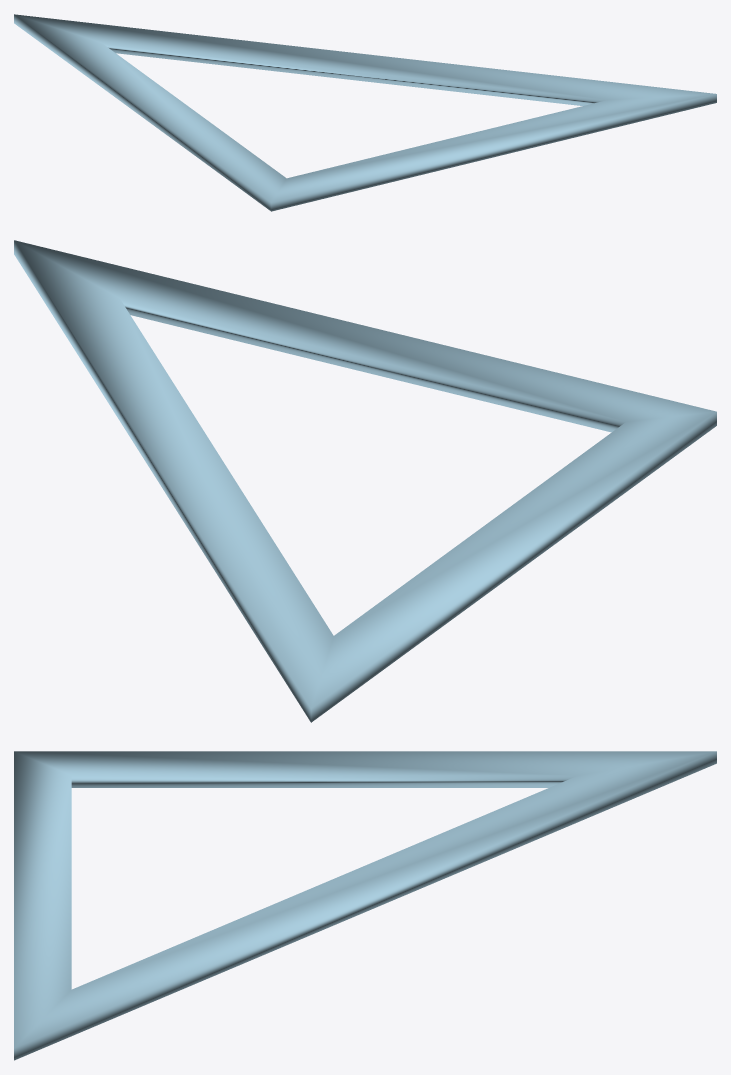
Rendered from Escuadra.fbx.
3 renders of one model, top to bottom at view 1: azimuth 30°, elevation 25°; view 2: azimuth 150°, elevation 25°; view 3: azimuth 270°, elevation 25°, orthographic. The views are drawn at different scales.
Visible parts, largest first — view 1: Escuadra; view 2: Escuadra; view 3: Escuadra.
Part boxes in pixels (x1,y1,x2,y2): Escuadra: (14,14,716,211); Escuadra: (14,240,716,722); Escuadra: (14,751,716,1060).
Size of the model in its own units: 200 by 3.84 by 200.
